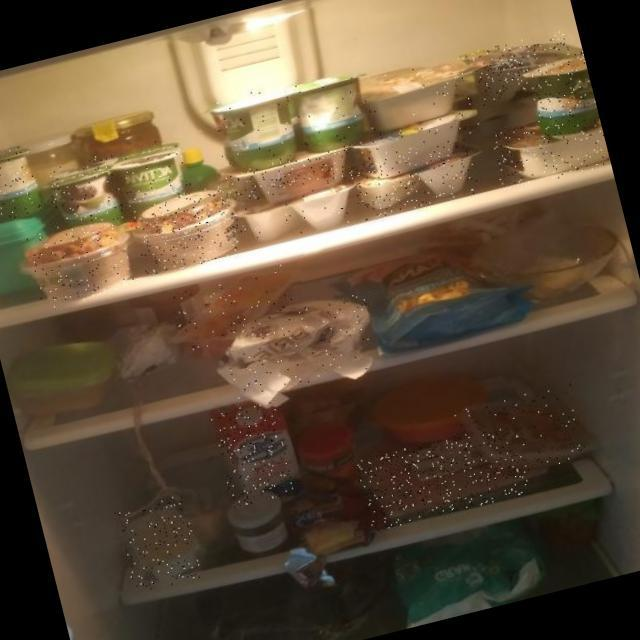Carne cerdo: (355, 421, 532, 532)
Queso: (215, 285, 381, 402), (113, 494, 203, 594)
Yogur: (207, 65, 371, 181), (41, 134, 195, 233), (347, 53, 484, 136), (130, 182, 249, 277), (346, 139, 479, 222), (23, 213, 135, 310), (488, 106, 611, 191), (223, 143, 360, 215), (354, 108, 487, 182), (235, 176, 358, 248), (467, 28, 577, 103), (524, 46, 602, 142), (0, 142, 42, 230)
